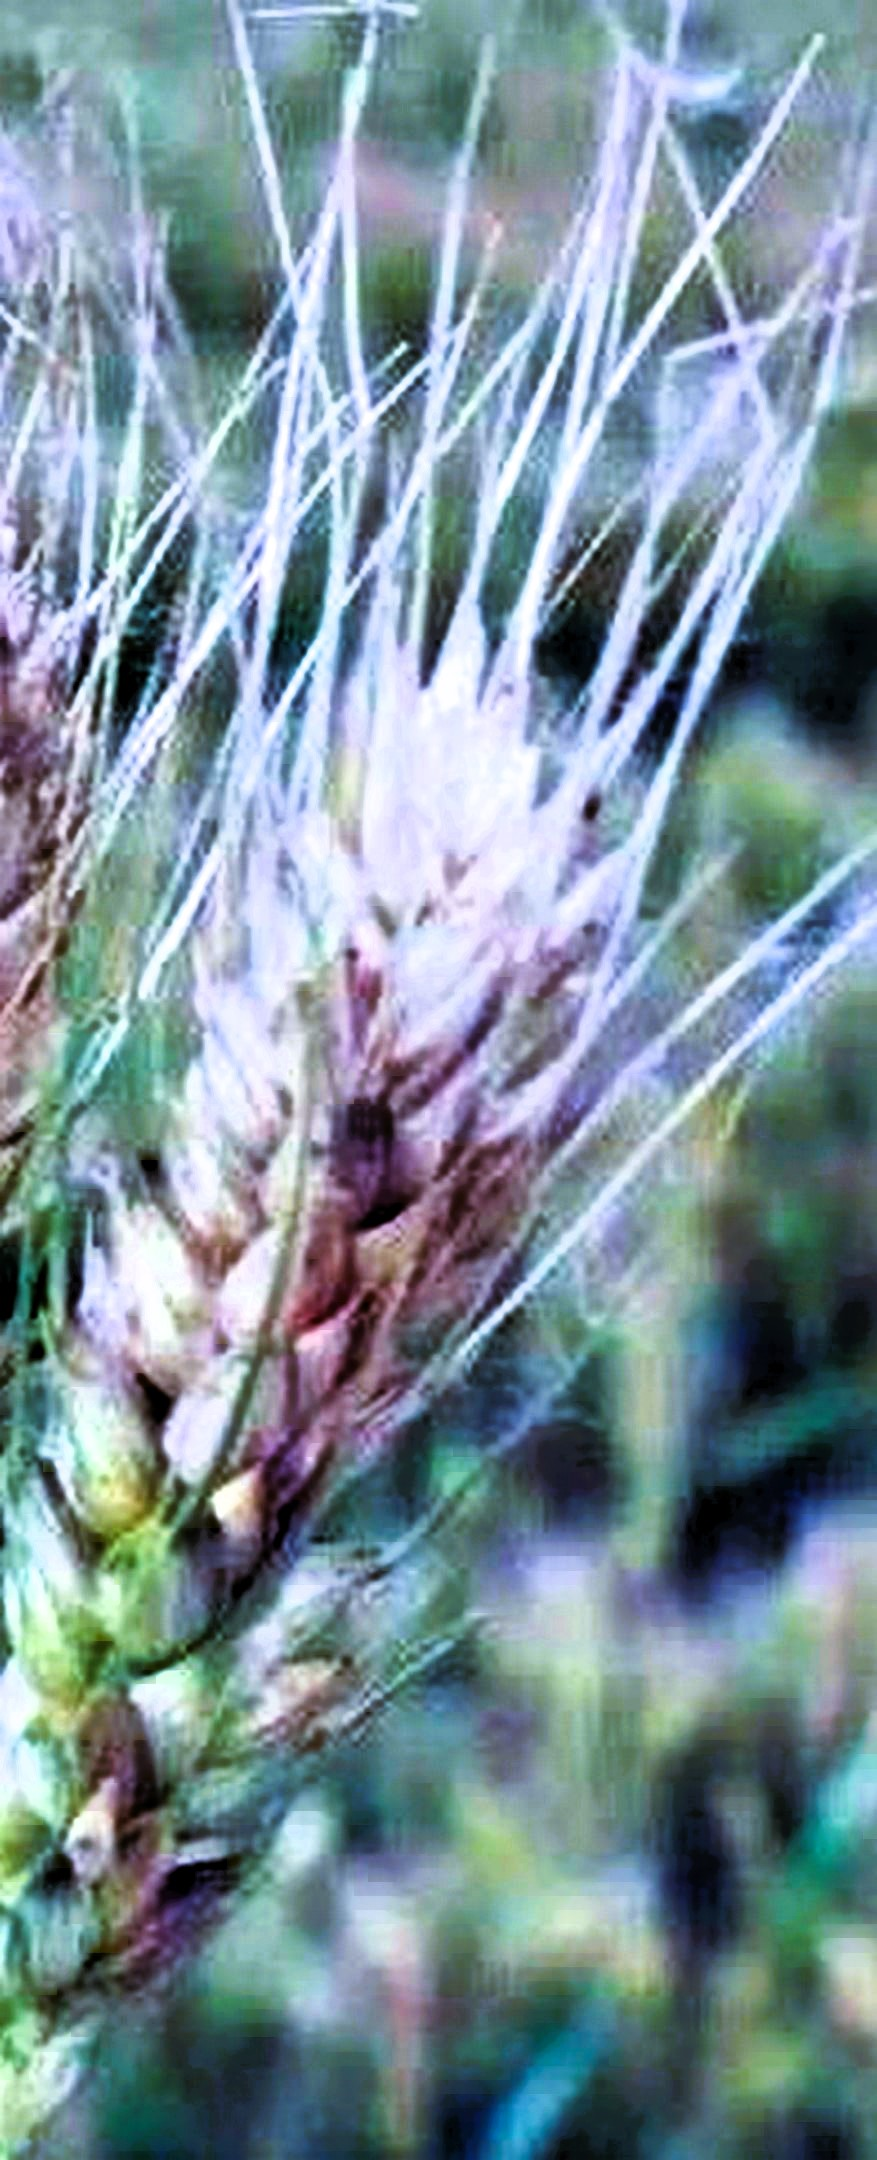Wheat scab: (37, 726, 637, 1745)
